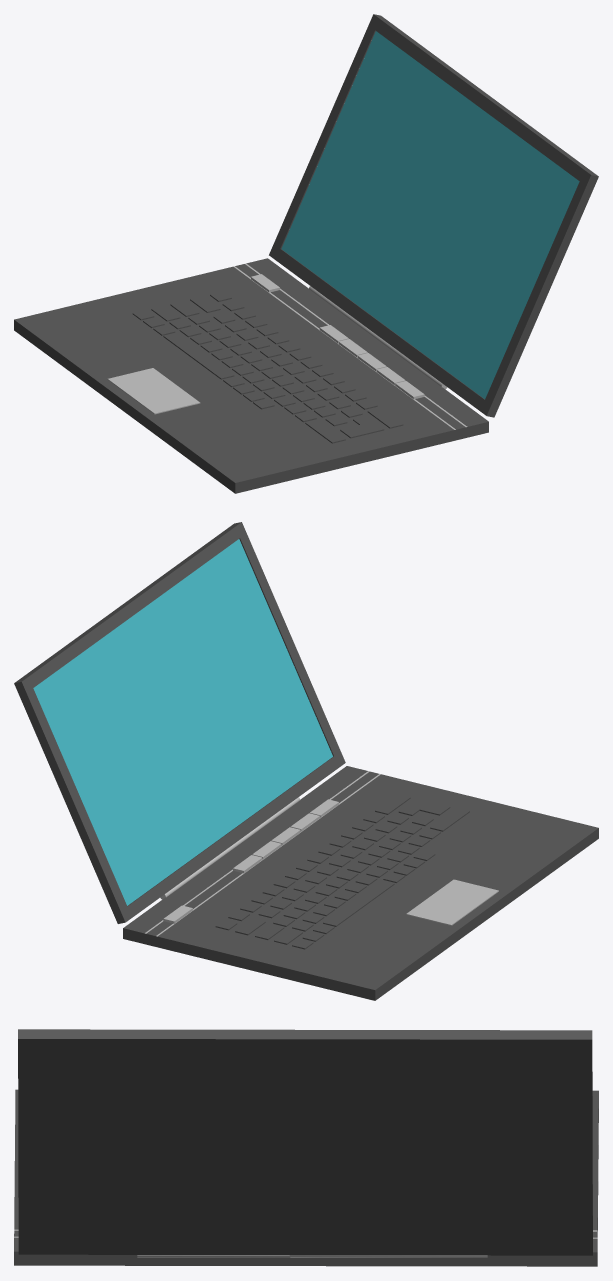
The model's file is Laptop.glb.
3 views of the same model, one above another, from view 1: azimuth 30°, elevation 25°; view 2: azimuth 150°, elevation 25°; view 3: azimuth 270°, elevation 25° (orthographic). The views are drawn at different scales.
Visible parts, largest first — view 1: Box20255; view 2: Box20255; view 3: Box20255.
Boxes of the visible parts, x1=… form: Box20255: x1=14, y1=14, x2=598, y2=493; Box20255: x1=14, y1=522, x2=598, y2=1000; Box20255: x1=14, y1=1029, x2=598, y2=1266.
Bounding box in the file's own units: 0.5397 × 0.3255 × 0.5704.
